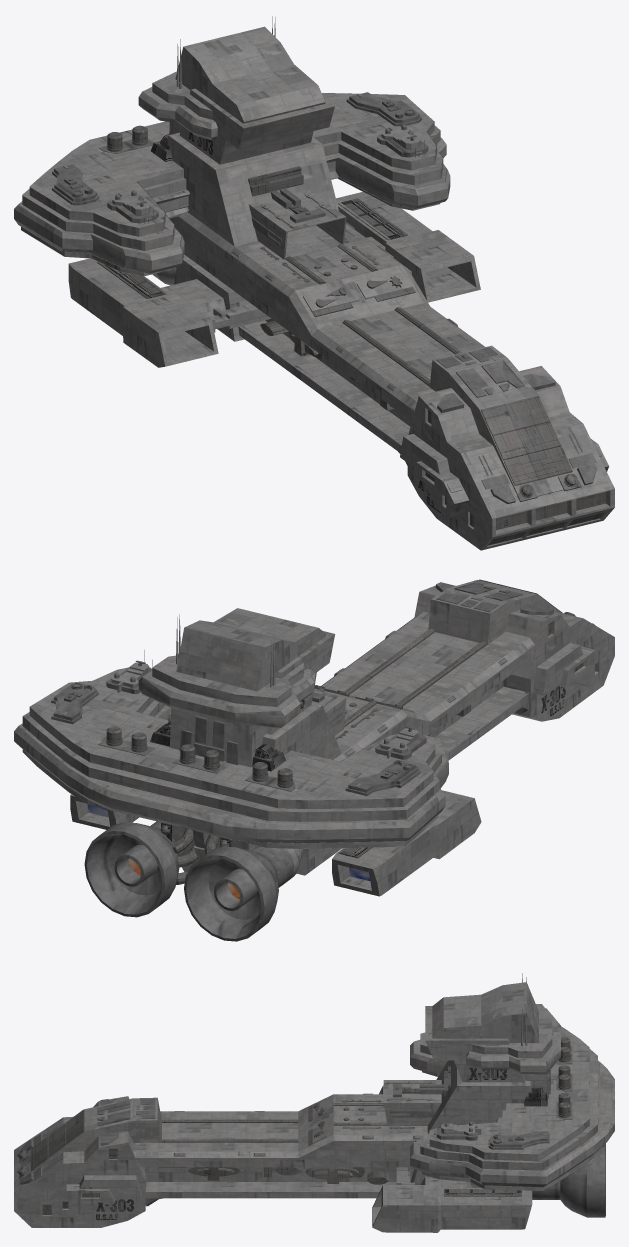
The model's file is Tauri_Prometheus.fbx.
The picture shows the model from 3 angles, top to bottom: view 1: azimuth 30°, elevation 25°; view 2: azimuth 150°, elevation 25°; view 3: azimuth 270°, elevation 25°; orthographic projection. The views are drawn at different scales.
Visible parts, largest first — view 1: Model, Group1; view 2: Model, Group1; view 3: Model, Group1.
Boxes of the visible parts, <box> form: Model: <box>14,16,614,550</box>; Group1: <box>64,100,582,497</box>; Model: <box>14,579,614,941</box>; Group1: <box>64,601,575,787</box>; Model: <box>14,973,614,1232</box>; Group1: <box>17,1037,570,1175</box>.
Size of the model in its own units: 484 by 326 by 817.
